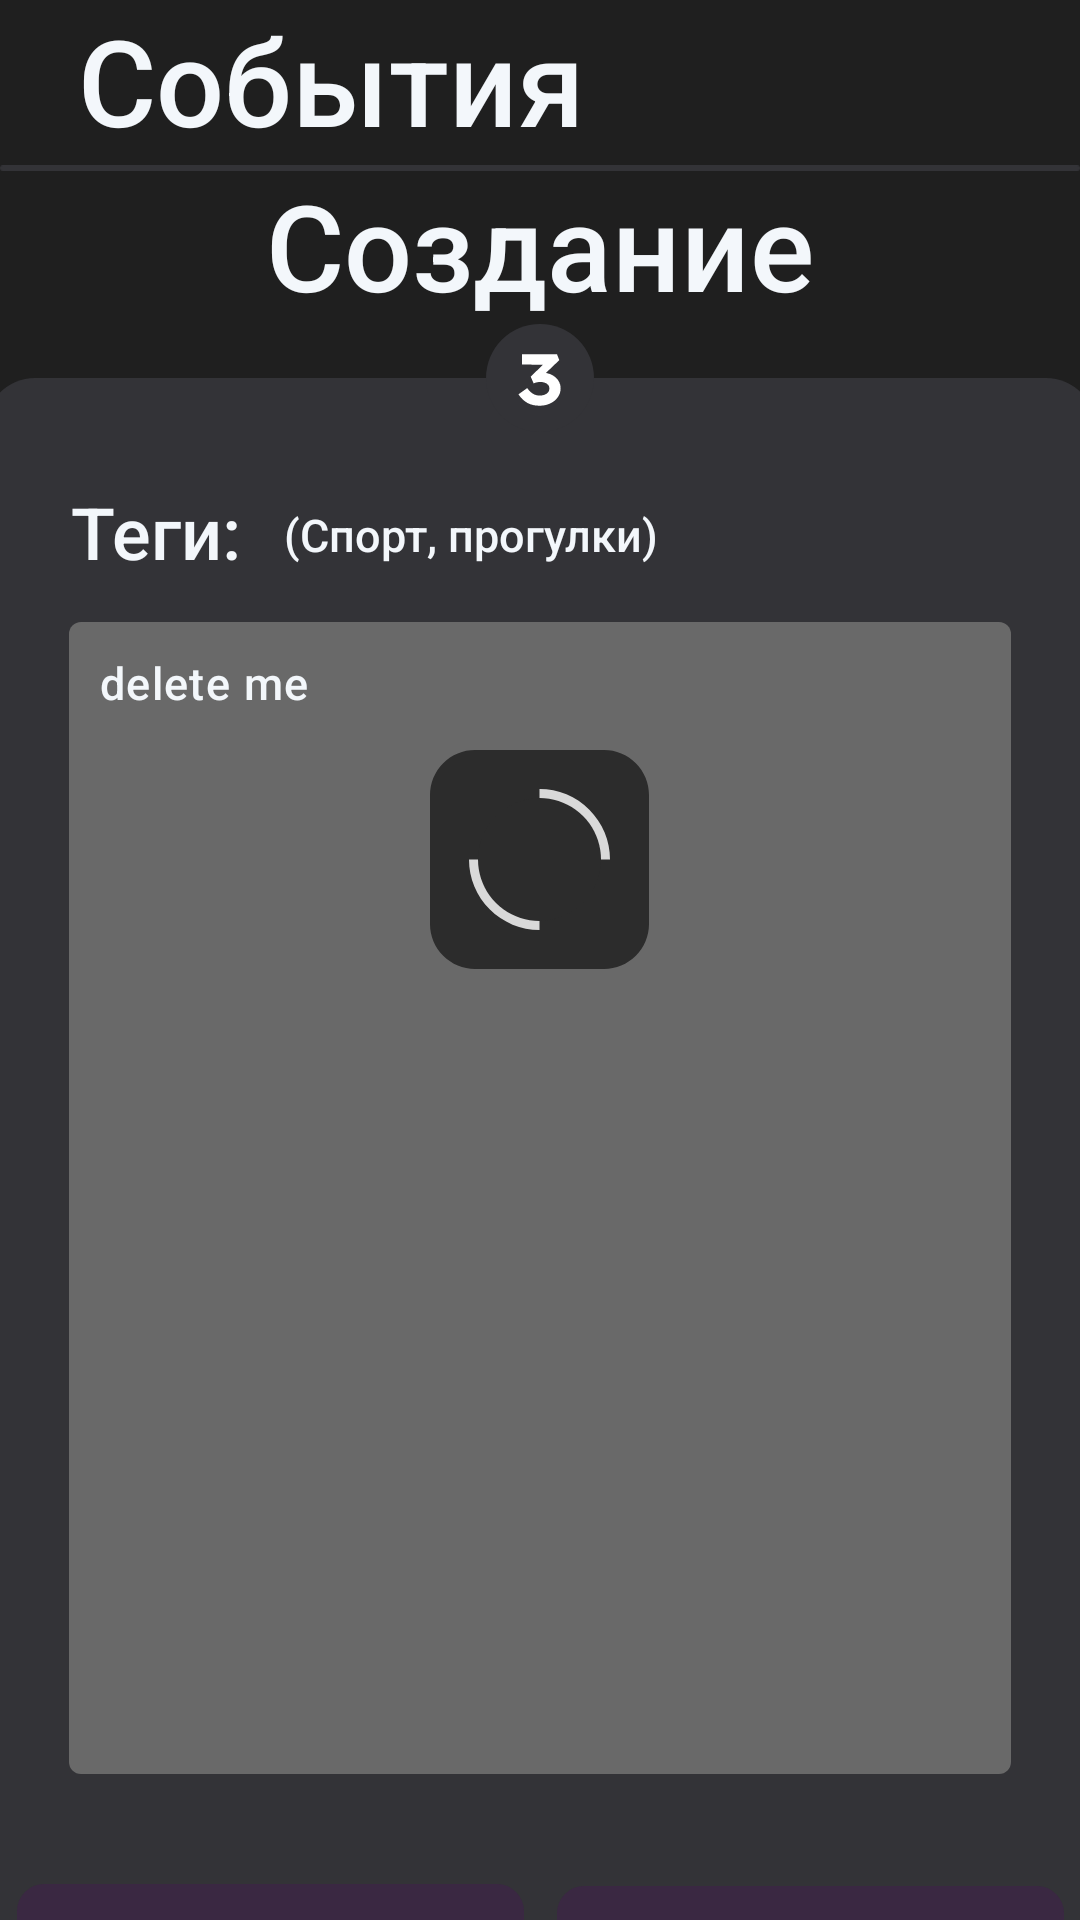

Icon bounding boxes for this 1080 x 1920 phone screenshot, format {"x1": x1, "y1": y1, "x2": x2, "y2": y2}:
loading anim: {"x1": 430, "y1": 750, "x2": 649, "y2": 969}
pagenumberimage: {"x1": 493, "y1": 335, "x2": 587, "y2": 406}
